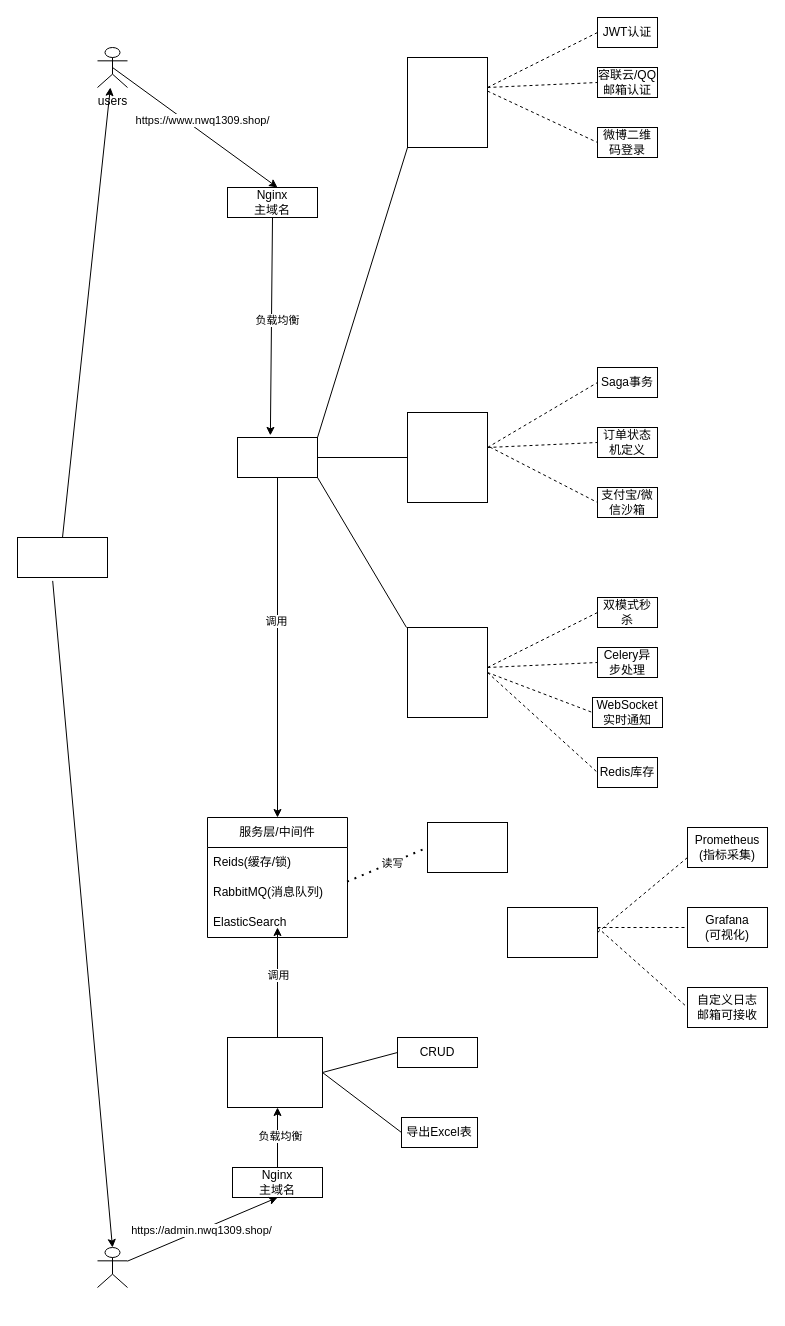
This 785x1326 diagram has some shape labels left out. Here are the shapes that lost their labels. From the top down, the centre of each, then its label:
At (447,102): "用户模块 登录、注册忘记密码".
At (277,457): "Django 核心业务逻辑".
At (447,457): "订单模块 我的订单、购物车、支付页面".
At (62,557): "木犀推荐站".
At (447,672): "秒杀模块 秒杀活动".
At (467,847): "数据库".
At (552,932): "监控与日志".
At (274,1072): "FastASPI 后台数据管理 (订单,商品,用户)".
At (112,1267): "admin".
